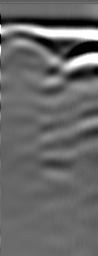pipe: (4, 25, 47, 55)
